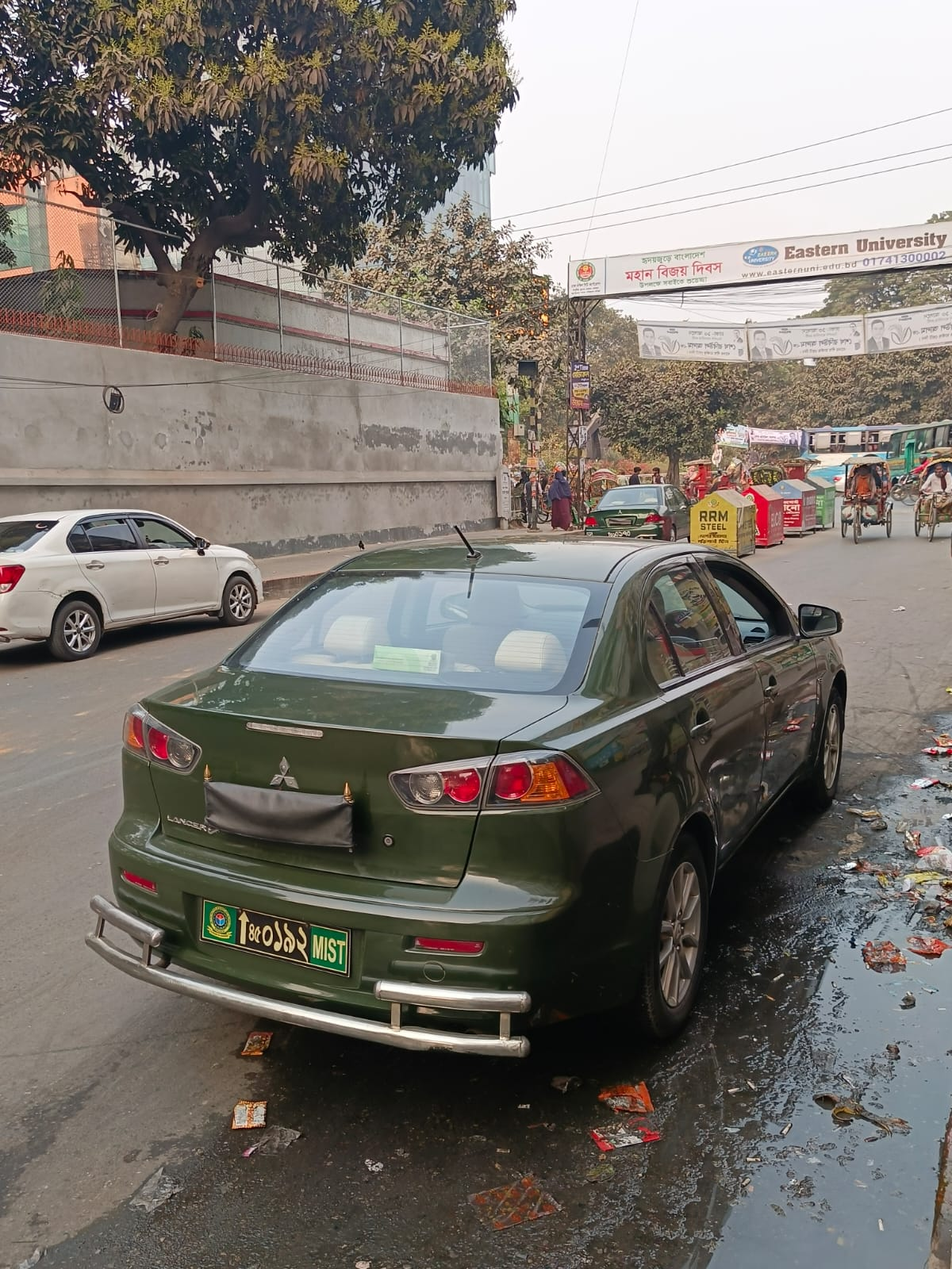Bus: (772, 421, 952, 462)
auto-ricksaw: (833, 442, 899, 538), (915, 445, 952, 591)
private car: (85, 482, 874, 1073), (8, 447, 273, 655), (576, 458, 702, 535)
